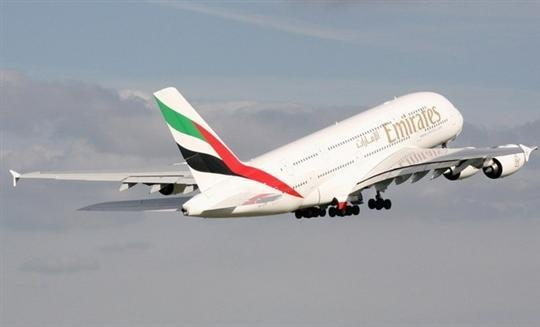airplane: (7, 83, 540, 220)
